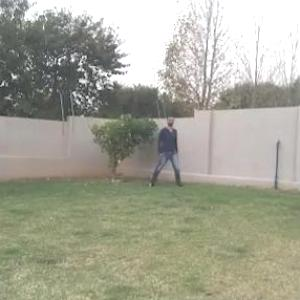follow: (158, 114, 176, 184)
